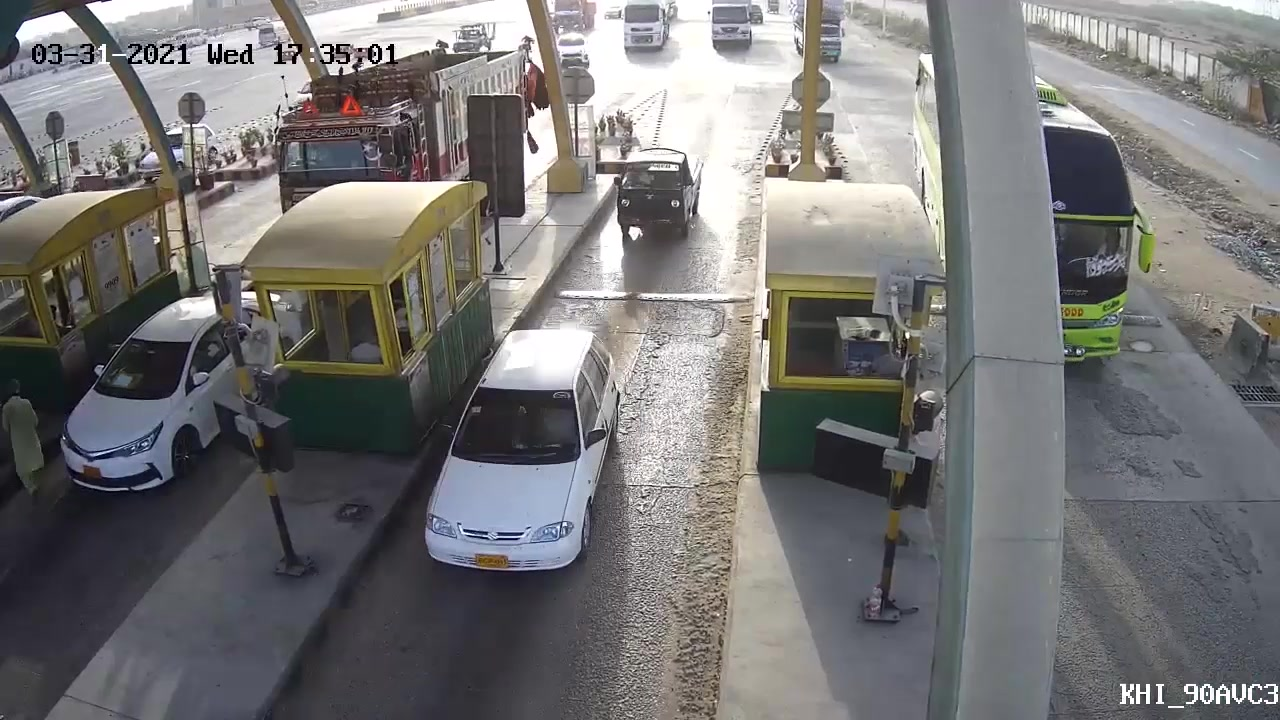F1: (414, 320, 651, 596)
